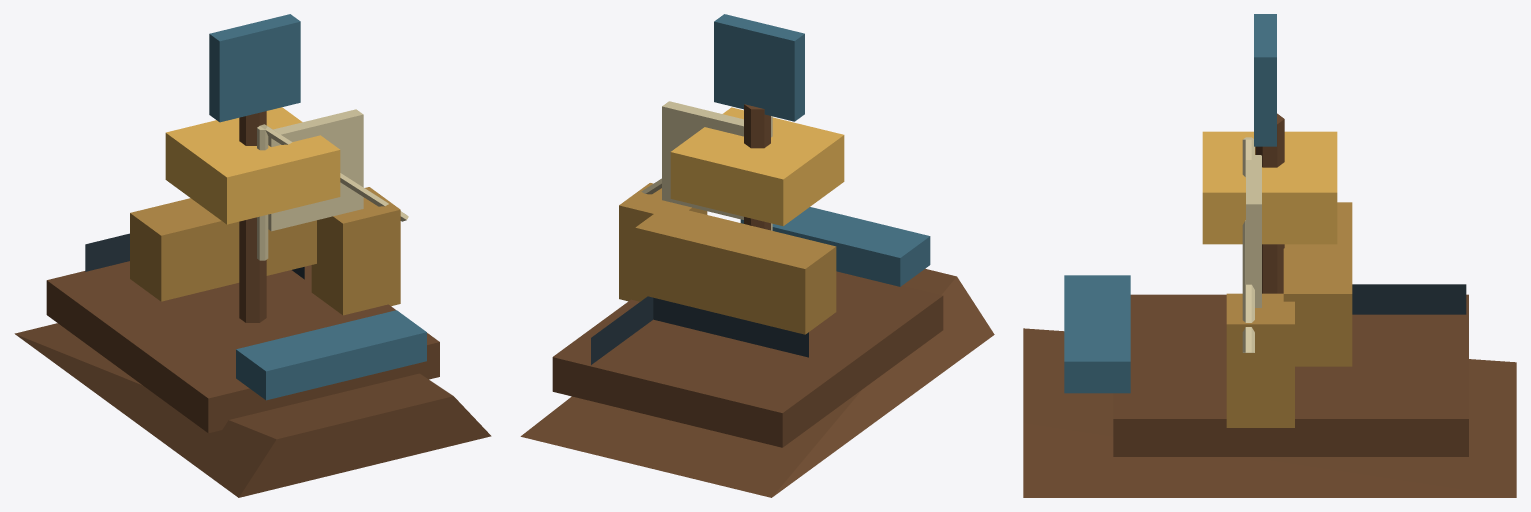
File: ship.obj
3 views of the same model, side by side, from view 1: azimuth 30°, elevation 25°; view 2: azimuth 150°, elevation 25°; view 3: azimuth 270°, elevation 25° (orthographic). The views are drawn at different scales.
Visible parts, largest first — view 1: ship; view 2: ship; view 3: ship.
Part boxes in pixels (x1,y1,x2,y2): ship: (14, 14, 491, 497); ship: (520, 14, 994, 497); ship: (1023, 14, 1516, 497).
Size of the model in its own units: 1.51 by 1.9 by 2.16.
